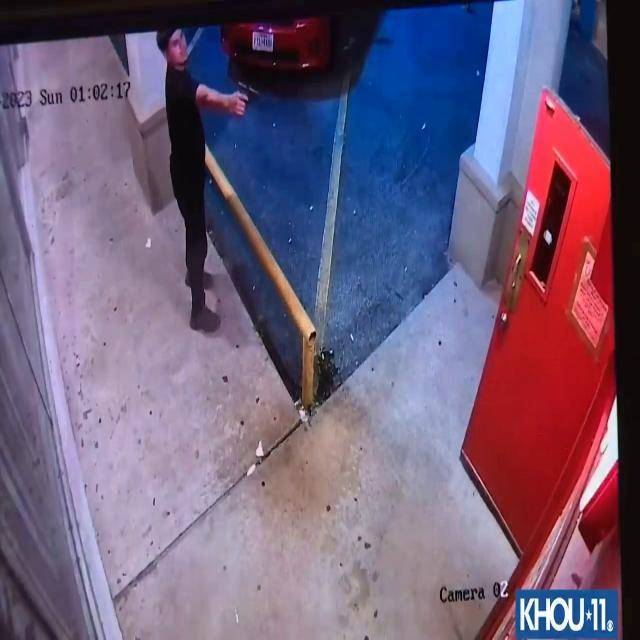penembakan: (153, 29, 259, 338)
